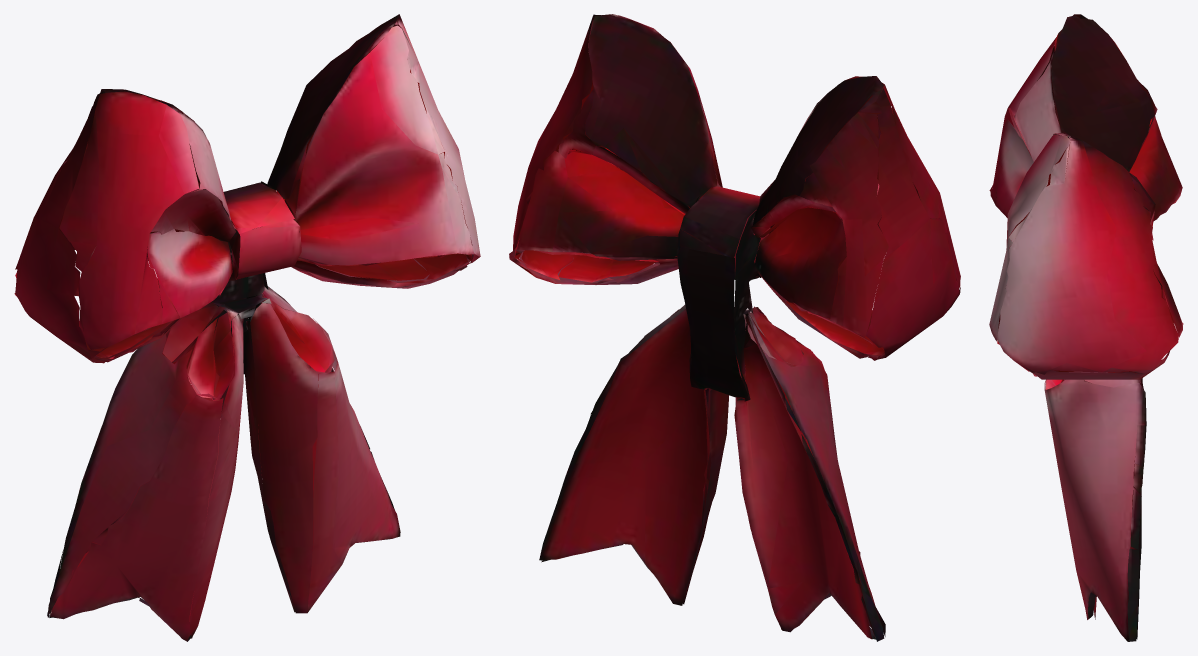
Rendered from ribbon.glb.
3 views of the same model, side by side, from view 1: azimuth 30°, elevation 25°; view 2: azimuth 150°, elevation 25°; view 3: azimuth 270°, elevation 25° (orthographic). The views are drawn at different scales.
Parts seen in each view (by area): view 1: low; view 2: low; view 3: low.
Boxes of the visible parts, x1,y1,x2,y2 form: low: (14,14,480,641); low: (509,14,960,641); low: (989,14,1183,641).
Size of the model in its own units: 1.47 by 2 by 0.6792.
1 material, 1 textured.
